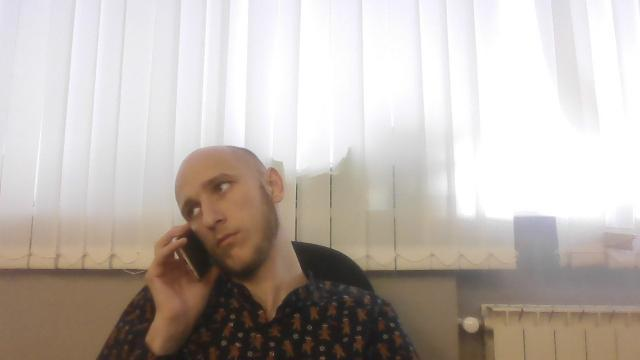PhoneUse: (169, 227, 215, 283)
SafeDriving: (209, 175, 238, 200)
